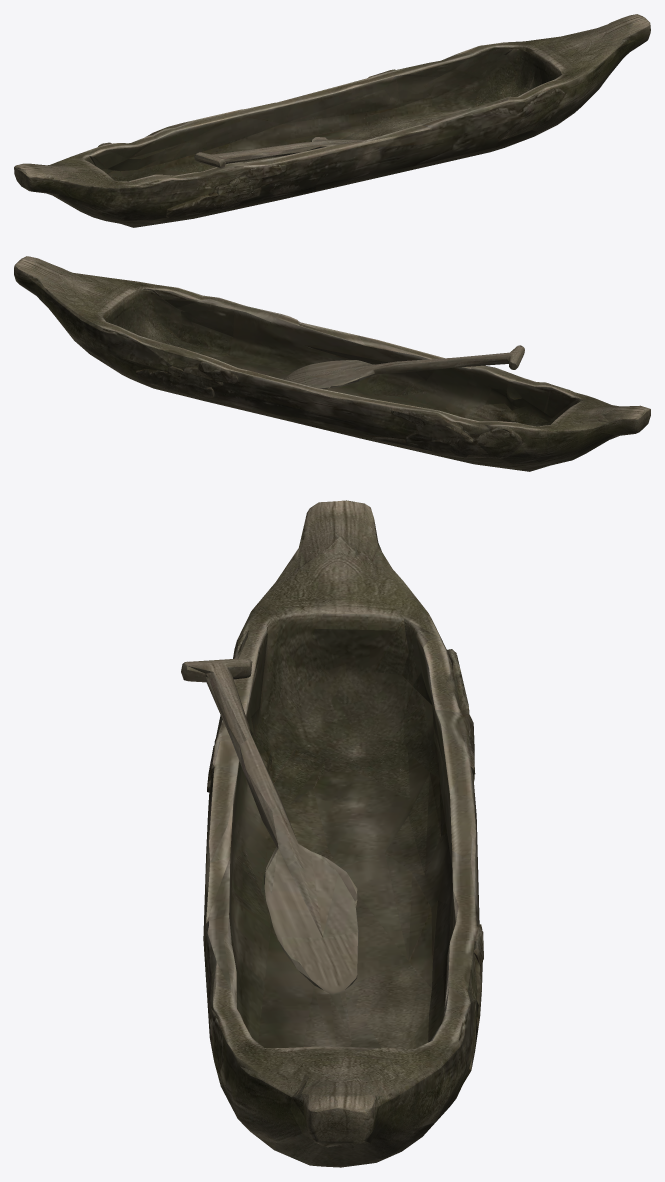
File: dugout.glb
3 views of the same model, one above another, from view 1: azimuth 30°, elevation 25°; view 2: azimuth 150°, elevation 25°; view 3: azimuth 270°, elevation 25° (orthographic). The views are drawn at different scales.
Parts seen in each view (by area): view 1: output_unwrapped; view 2: output_unwrapped; view 3: output_unwrapped.
Boxes of the visible parts, x1,y1,x2,y2 form: output_unwrapped: [14, 14, 650, 227]; output_unwrapped: [14, 256, 650, 471]; output_unwrapped: [181, 500, 483, 1167].
Size of the model in its own units: 7 by 0.8543 by 1.47.
Materials: 1 (1 with a texture image).
